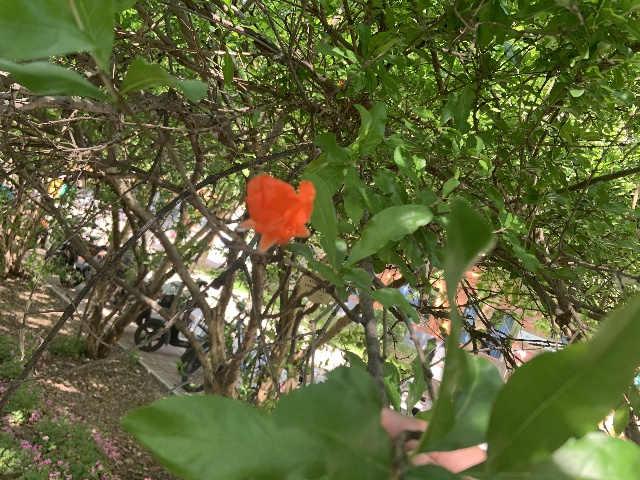flower: (241, 174, 316, 251)
